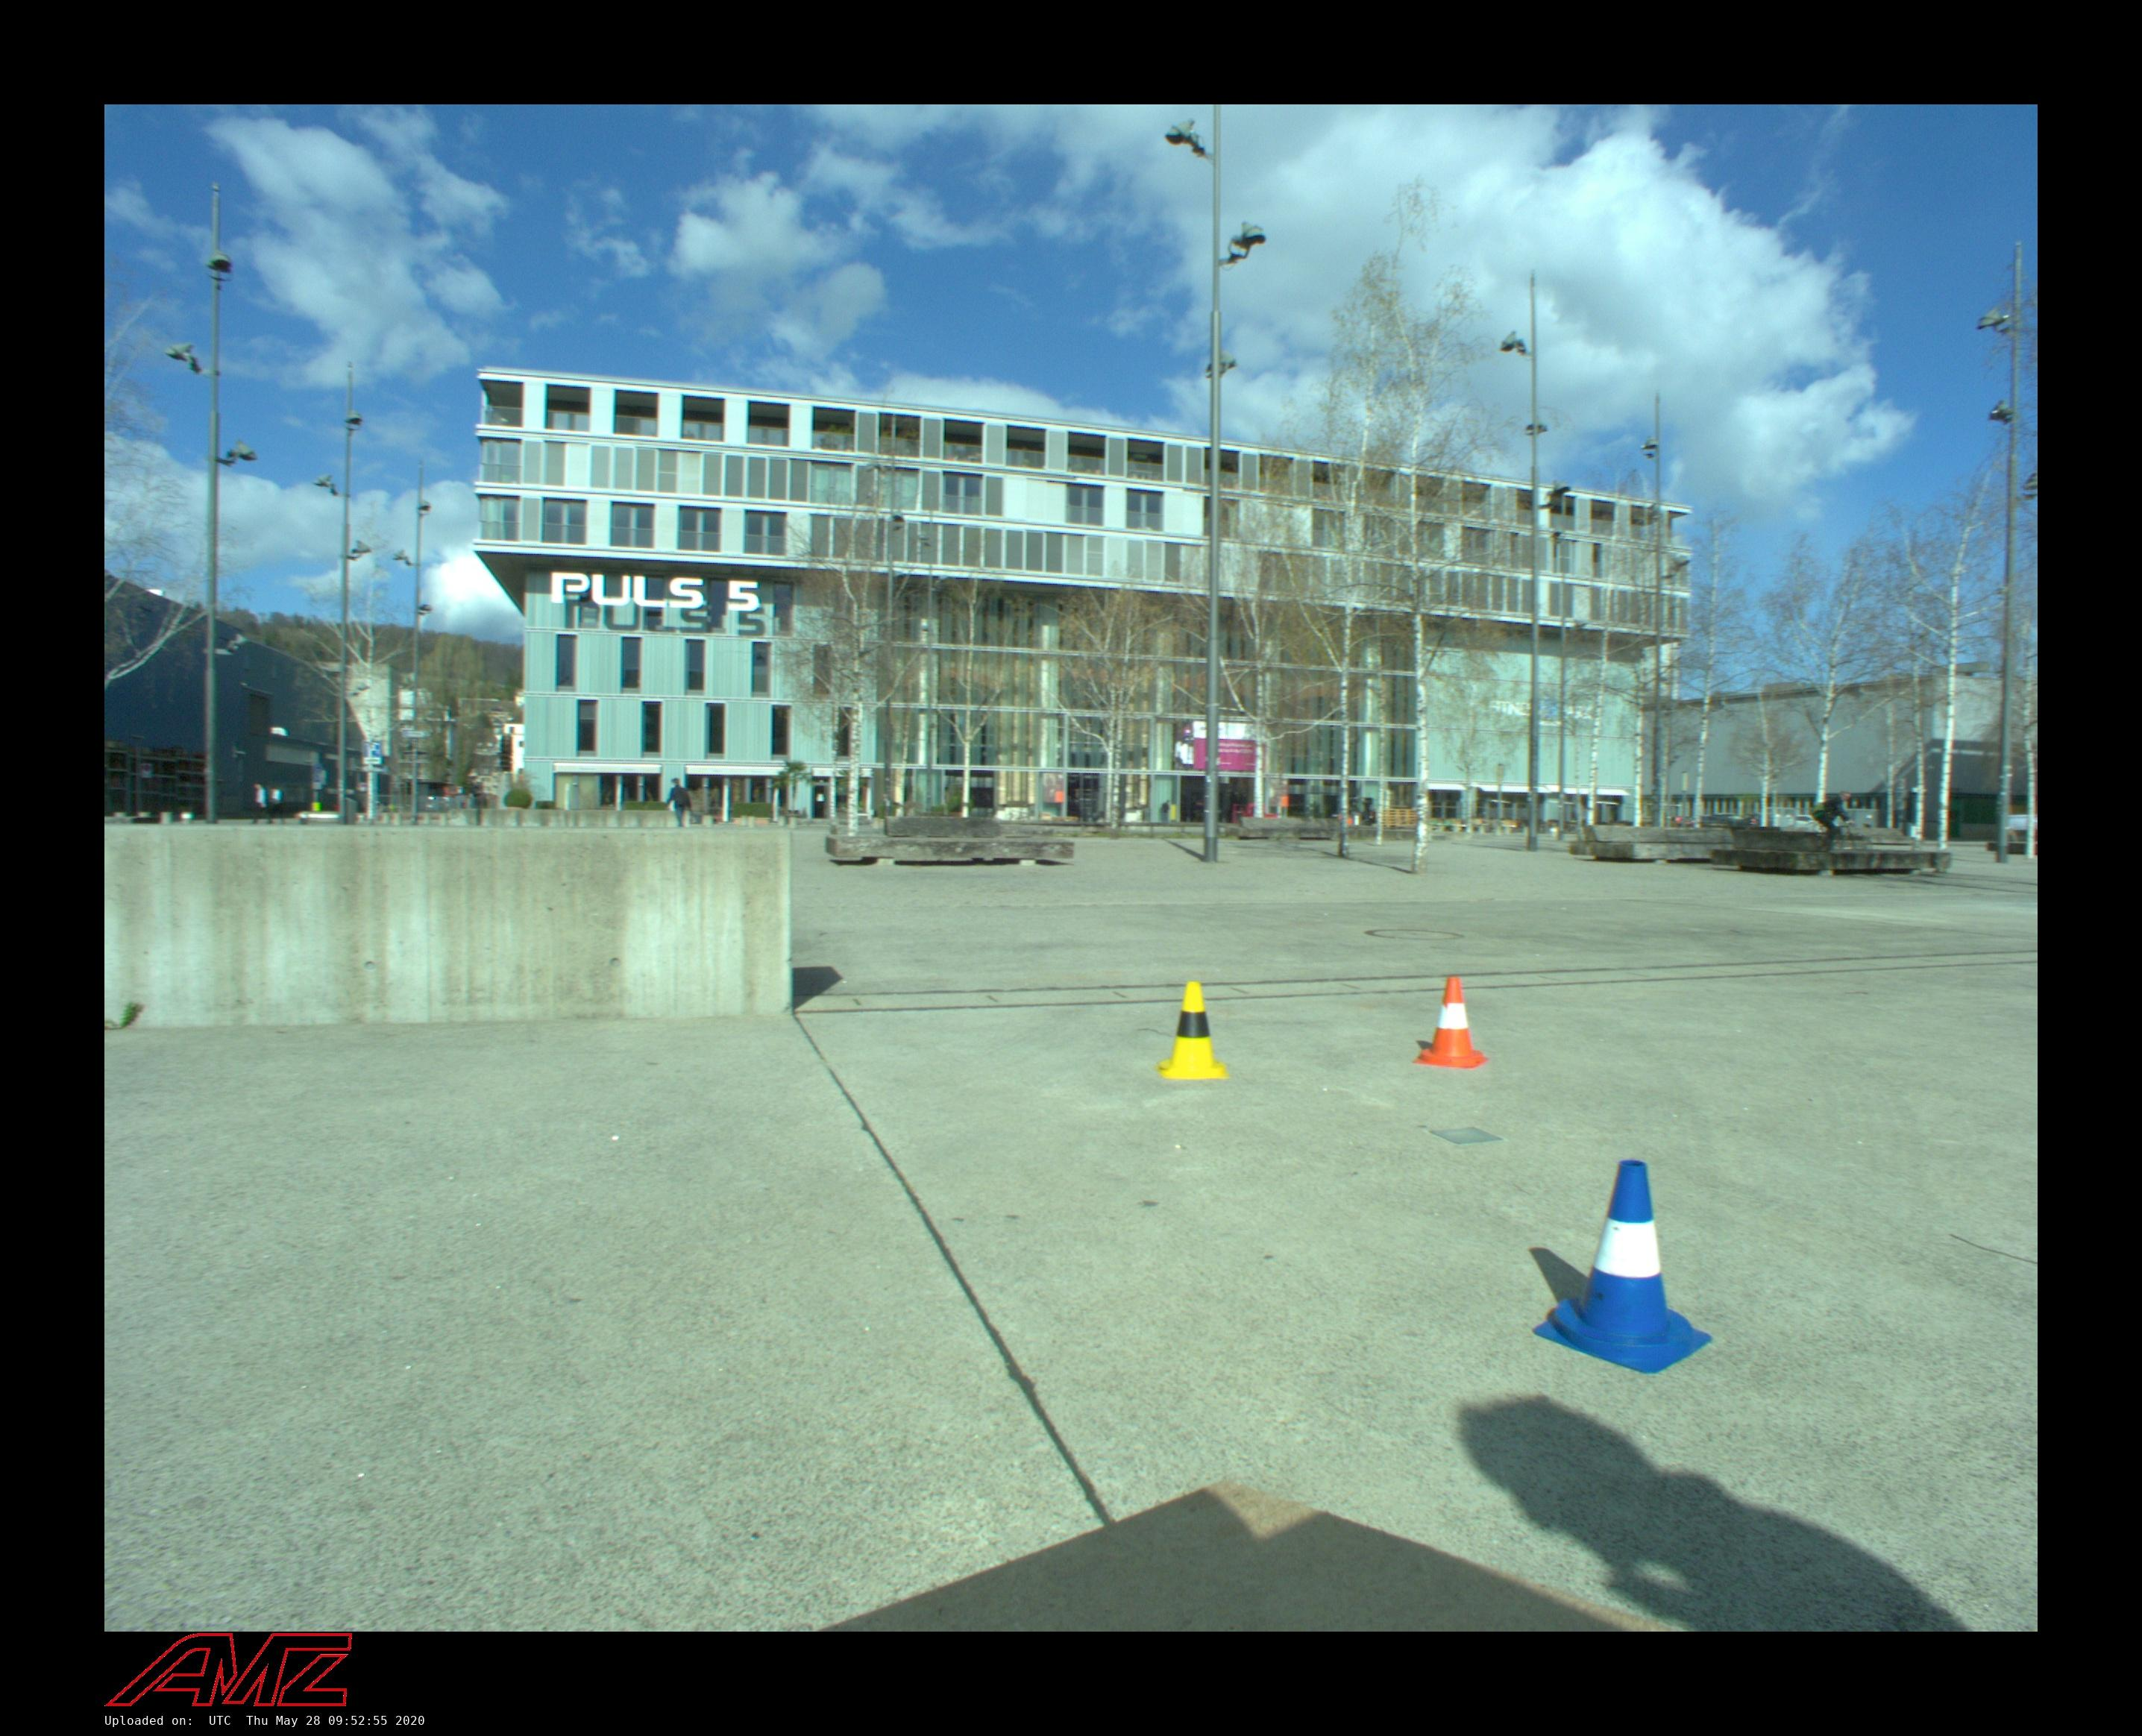blue_cone: (1531, 1157, 1715, 1371)
orange_cone: (1414, 978, 1492, 1068)
yellow_cone: (1159, 981, 1228, 1081)
